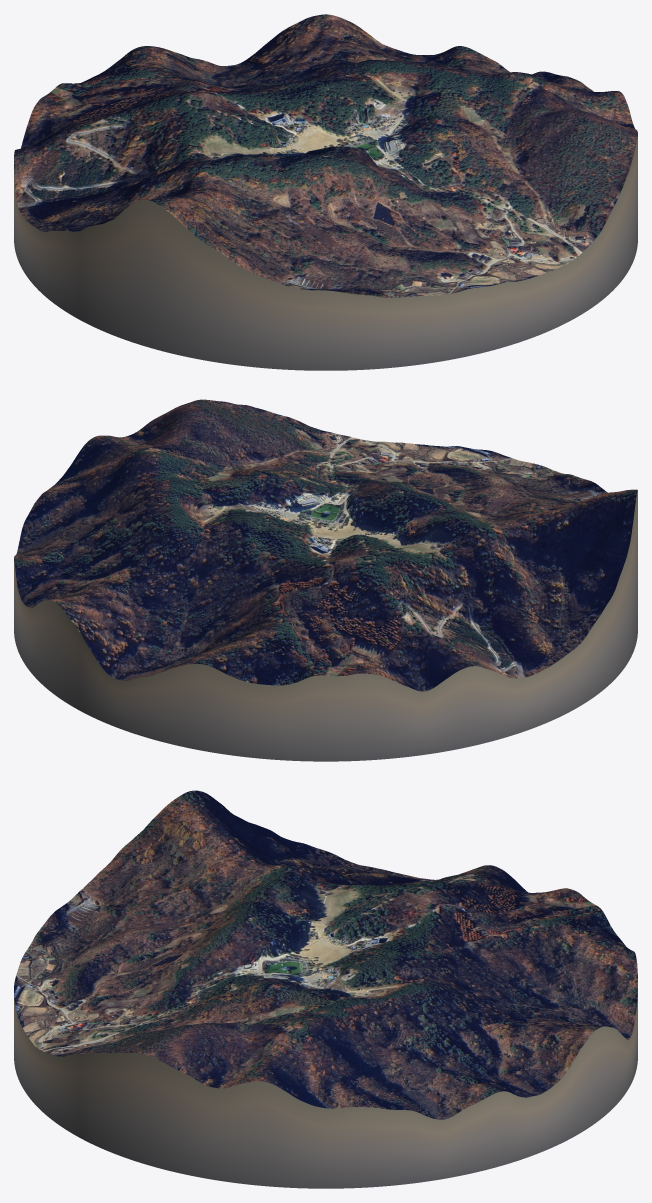
File: wolmyeongdong_600m.glb
The picture shows the model from 3 angles, top to bottom: view 1: azimuth 30°, elevation 25°; view 2: azimuth 150°, elevation 25°; view 3: azimuth 270°, elevation 25°; orthographic projection.
Visible parts, largest first — view 1: TerrainDiorama; view 2: TerrainDiorama; view 3: TerrainDiorama.
Boxes of the visible parts, bbox=[...] form: TerrainDiorama: bbox=[14, 14, 637, 370]; TerrainDiorama: bbox=[14, 399, 637, 761]; TerrainDiorama: bbox=[14, 790, 637, 1188].
Size of the model in its own units: 76 by 19.78 by 76.
Materials: 2 (1 with a texture image).
